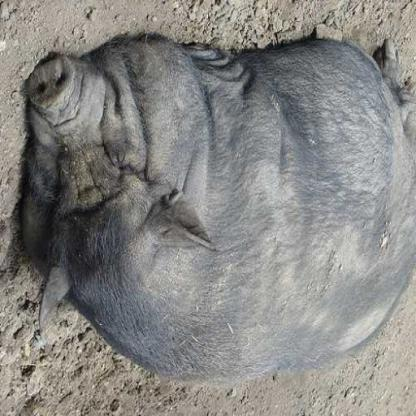boar: (11, 20, 415, 406)
